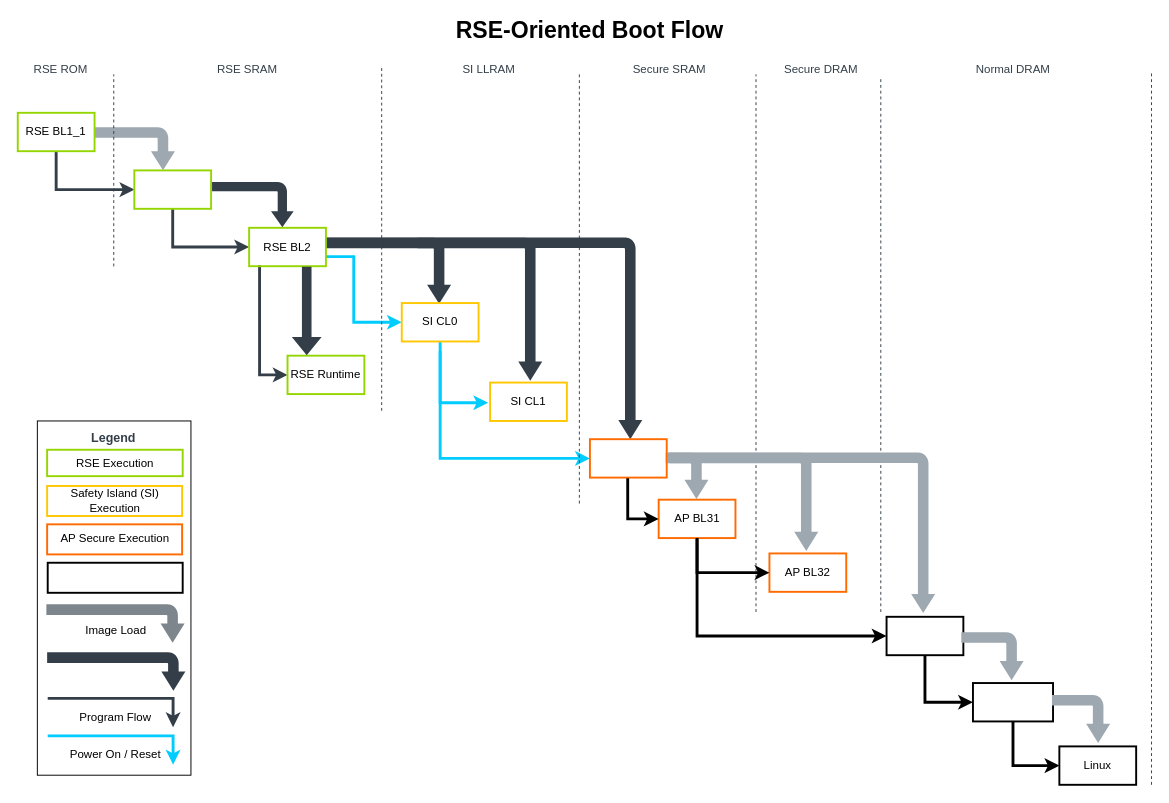
The diagram is 1169 pixels wide and 803 high, and some of its shapes have lost their labels. The centre of each missing label's shape, as x and y in pixels:
"AP BL2" belongs at point (627, 458).
"AP BL33" belongs at point (924, 635).
"AP Normal World Execution" belongs at point (114, 577).
"Image Load and Decrypt" belongs at point (116, 671).
"RSE BL1_2" belongs at point (172, 189).
"systemd-boot" belongs at point (1013, 702).
